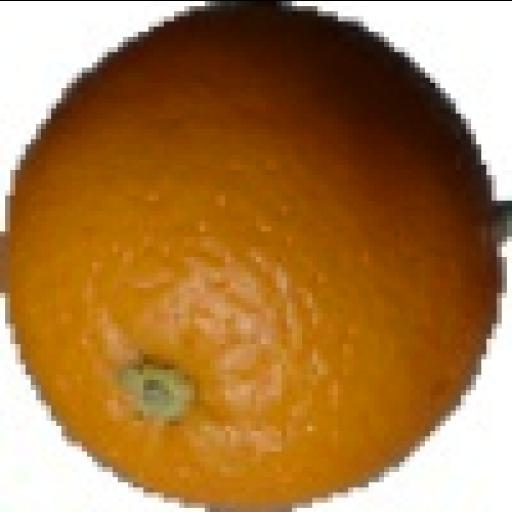orange: (11, 6, 501, 501)
